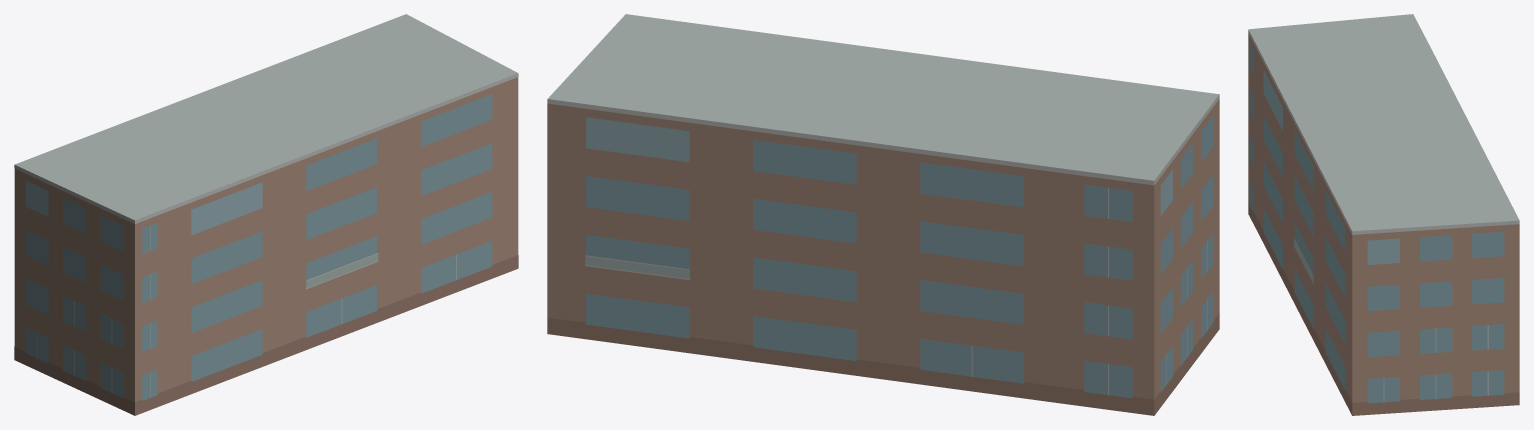
Rendered from survey-upis-32801269.glb.
3 renders of one model, left to right at view 1: azimuth 30°, elevation 25°; view 2: azimuth 150°, elevation 25°; view 3: azimuth 270°, elevation 25°, orthographic. The views are drawn at different scales.
Visible parts, largest first — view 1: survey-upis-32801269.tmp; view 2: survey-upis-32801269.tmp; view 3: survey-upis-32801269.tmp.
Boxes of the visible parts, x1,y1,x2,y2 form: survey-upis-32801269.tmp: (14,14,518,415); survey-upis-32801269.tmp: (547,14,1219,415); survey-upis-32801269.tmp: (1248,14,1519,415).
Bounding box in the file's own units: 31.84 × 12.6 × 16.81.
